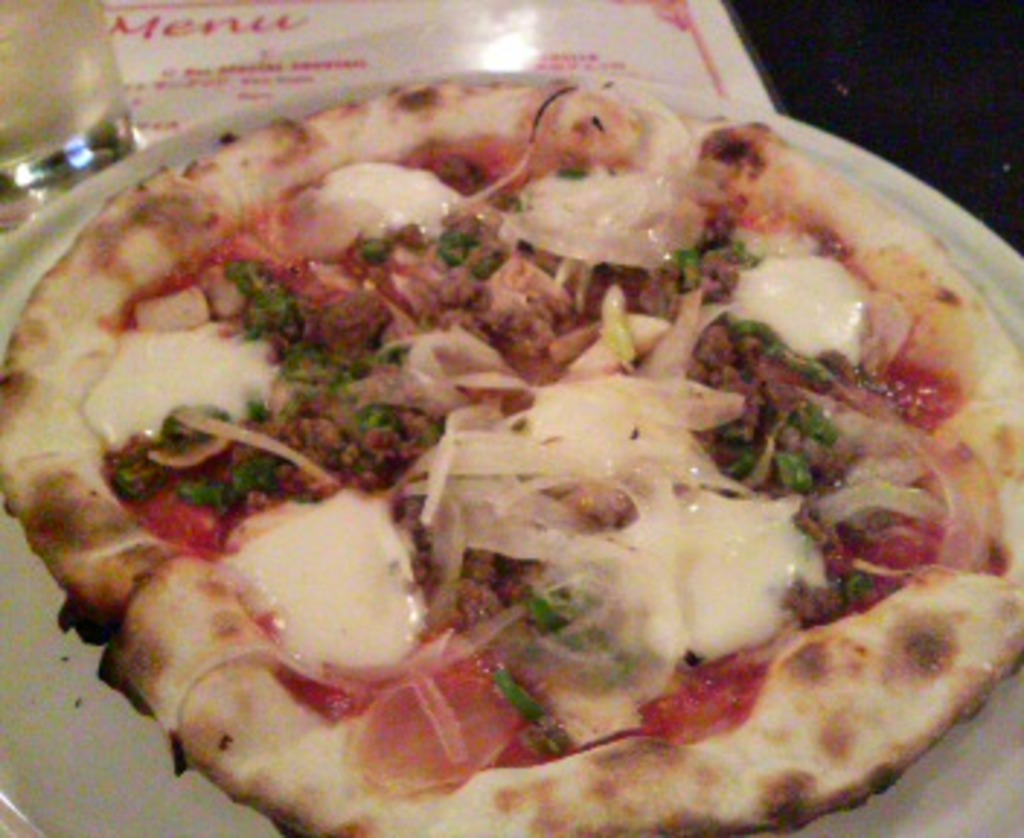Pizza: (8, 46, 1024, 838)
